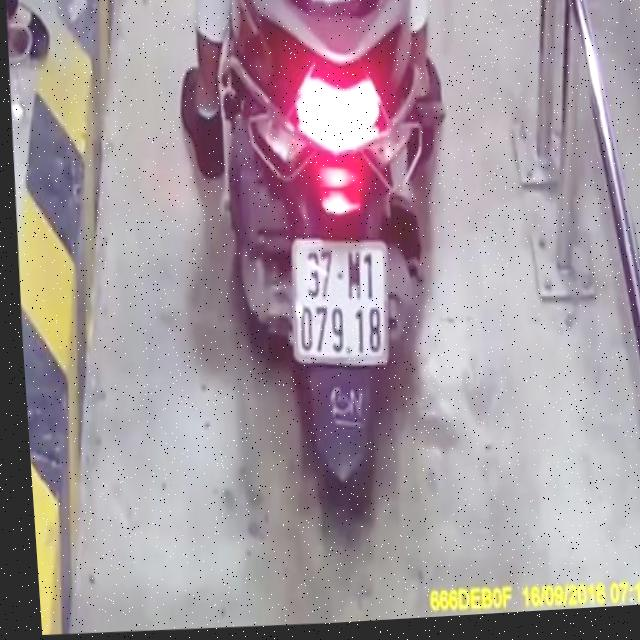motorcycle: (205, 0, 459, 523)
plate: (285, 226, 397, 372)
